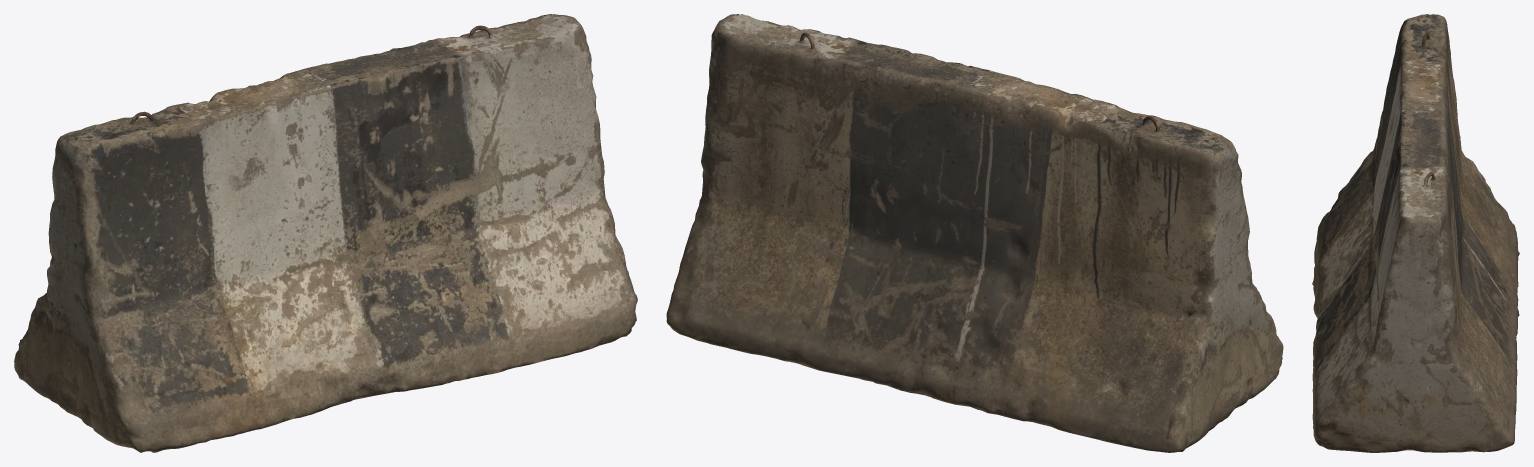
Rendered from concrete_road_barrier.glb.
The picture shows the model from 3 angles, left to right: view 1: azimuth 30°, elevation 25°; view 2: azimuth 150°, elevation 25°; view 3: azimuth 270°, elevation 25°; orthographic projection. The views are drawn at different scales.
Visible parts, largest first — view 1: concrete_road_barrier; view 2: concrete_road_barrier; view 3: concrete_road_barrier.
Part boxes in pixels (bbox=[...]): concrete_road_barrier: bbox=[14, 14, 637, 452]; concrete_road_barrier: bbox=[666, 14, 1283, 452]; concrete_road_barrier: bbox=[1312, 14, 1519, 452].
Bounding box in the file's own units: 1.55 × 0.8308 × 0.6387.
Materials: 1 (1 with a texture image).
